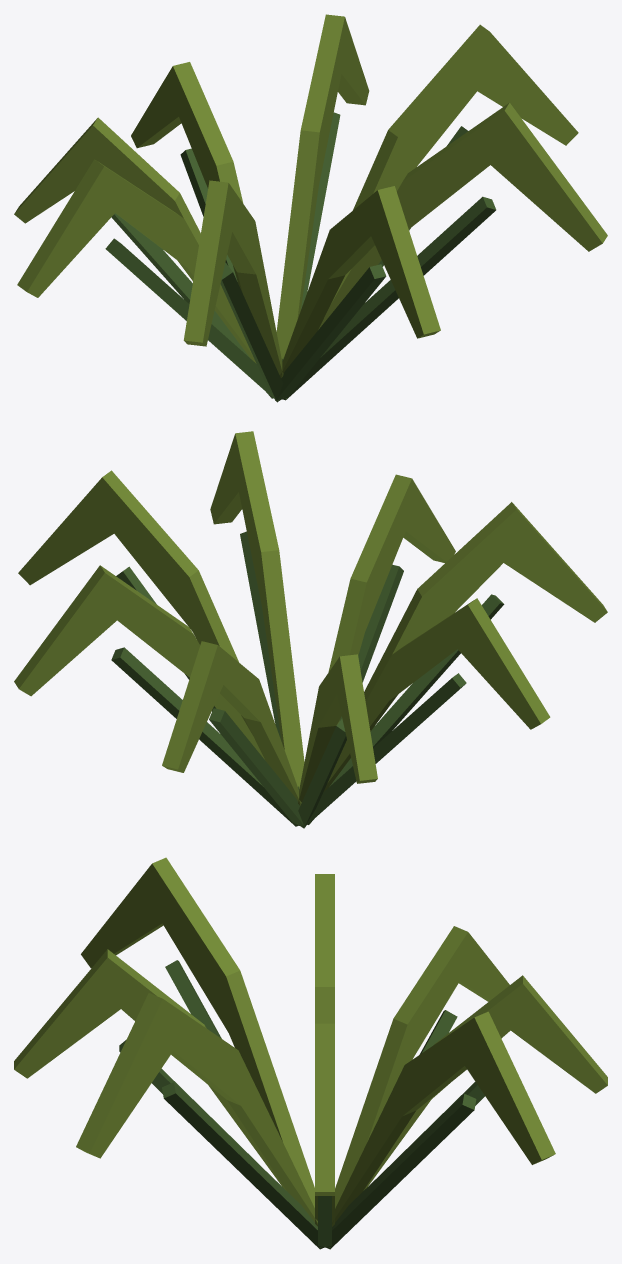
Rendered from Fern__Single.fbx.
The picture shows the model from 3 angles, top to bottom: view 1: azimuth 30°, elevation 25°; view 2: azimuth 150°, elevation 25°; view 3: azimuth 270°, elevation 25°; orthographic projection. The views are drawn at different scales.
Parts seen in each view (by area): view 1: Fern__Single; view 2: Fern__Single; view 3: Fern__Single.
Part boxes in pixels (x1,y1,x2,y2): Fern__Single: (14,14,607,402); Fern__Single: (14,431,607,828); Fern__Single: (14,857,607,1249).
Size of the model in its own units: 116 by 64.42 by 107.
Materials: 1 (1 with a texture image).
